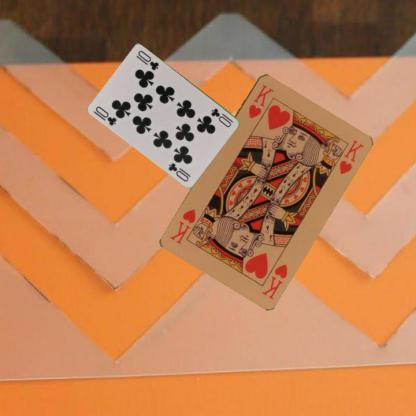10c: (93, 104, 118, 128), (209, 106, 235, 129)
Kh: (259, 260, 289, 300), (246, 82, 275, 119)
